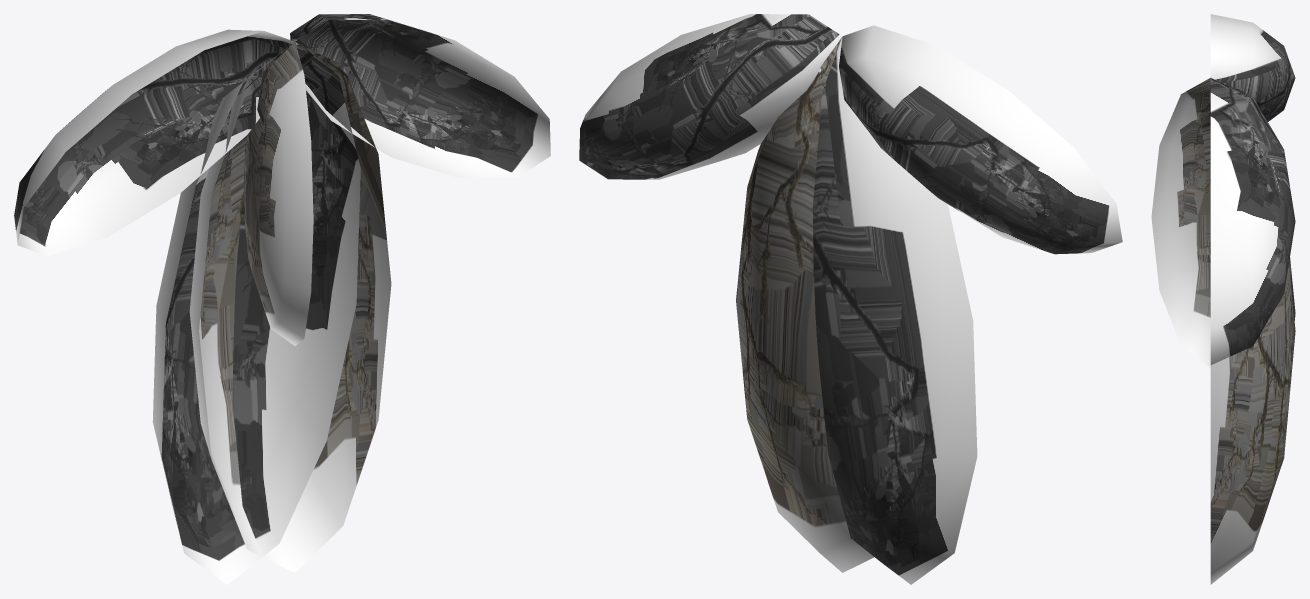
The picture shows the model from 3 angles, left to right: view 1: azimuth 30°, elevation 25°; view 2: azimuth 150°, elevation 25°; view 3: azimuth 270°, elevation 25°; orthographic projection. The views are drawn at different scales.
Parts seen in each view (by area): view 1: root6; view 2: root6; view 3: root6.
Boxes of the visible parts, x1,y1,x2,y2 form: root6: (14,14,550,584); root6: (579,14,1122,584); root6: (1151,14,1295,584).
Bounding box in the file's own units: 96.12 × 94.73 × 23.57.
